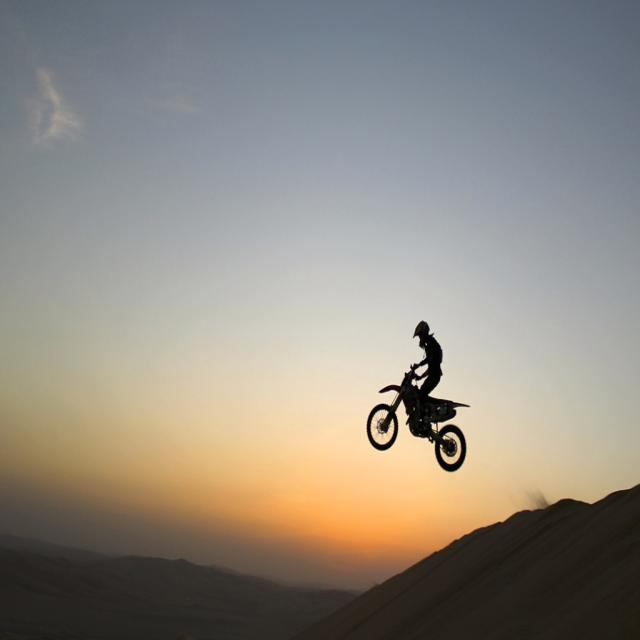Motorbikes: (366, 370, 471, 472)
